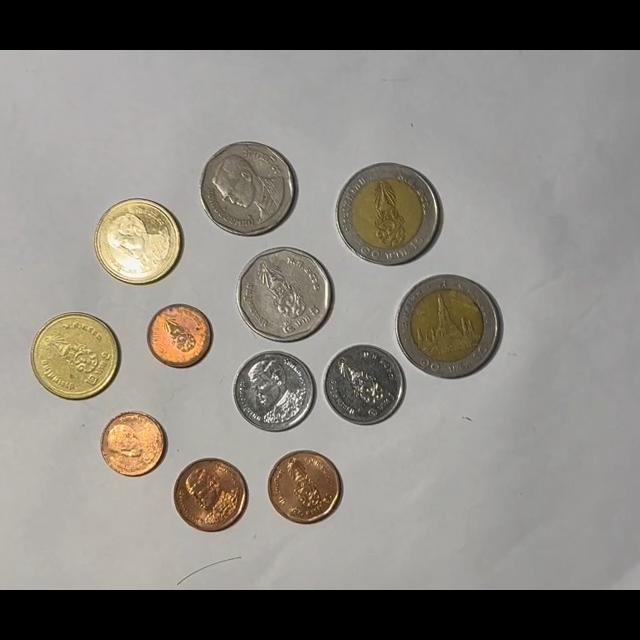1-baht: (232, 350, 315, 432), (323, 344, 405, 426)
10-baht: (396, 274, 501, 378), (335, 163, 441, 266)
2-baht: (31, 312, 121, 401), (93, 199, 181, 287)
25-satang: (100, 410, 168, 477), (147, 303, 213, 368)
5-baht: (199, 141, 298, 237), (237, 247, 332, 343)
50-satang: (173, 458, 249, 533), (267, 451, 342, 525)
